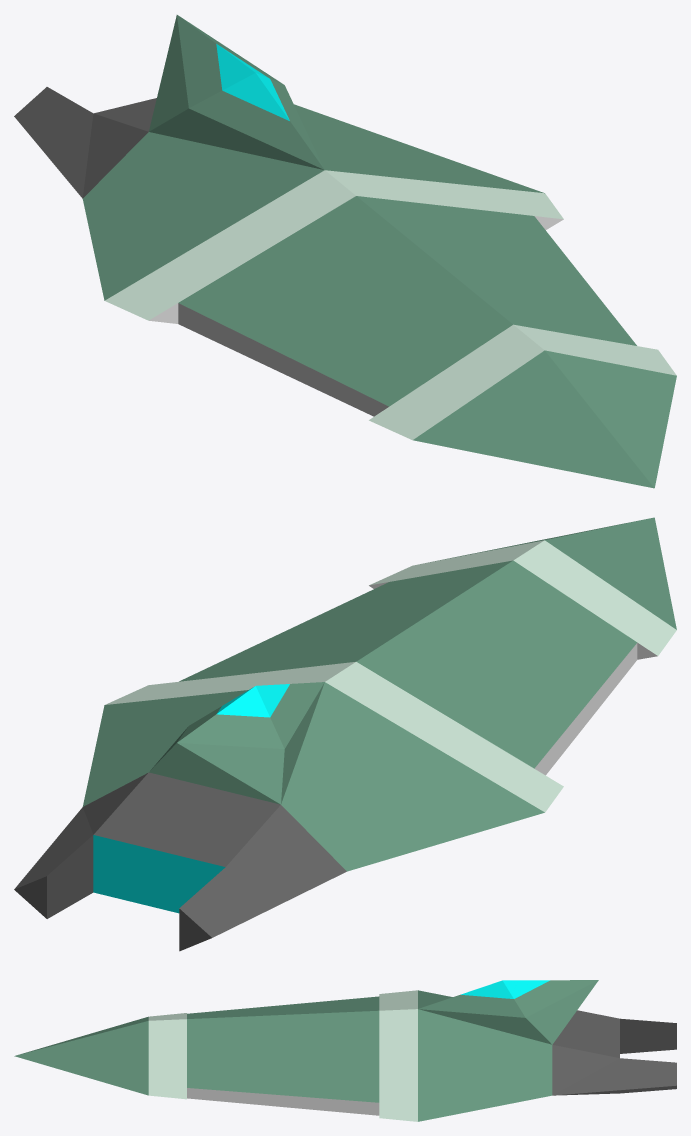
Rendered from tri_cruiser_light.fbx.
3 renders of one model, top to bottom at view 1: azimuth 30°, elevation 25°; view 2: azimuth 150°, elevation 25°; view 3: azimuth 270°, elevation 25°, orthographic. The views are drawn at different scales.
Parts seen in each view (by area): view 1: tri_cruiser_light; view 2: tri_cruiser_light; view 3: tri_cruiser_light.
Part boxes in pixels (bbox=[...]): tri_cruiser_light: bbox=[14, 15, 676, 488]; tri_cruiser_light: bbox=[14, 517, 676, 951]; tri_cruiser_light: bbox=[14, 980, 676, 1121].
Size of the model in its own units: 39.38 by 17.17 by 83.81.
Materials: 1 (1 with a texture image).
